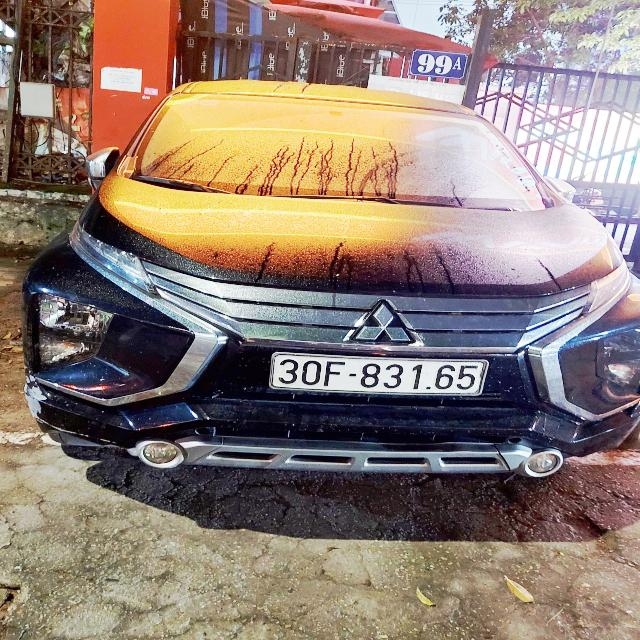license_plate: (266, 351, 496, 401)
